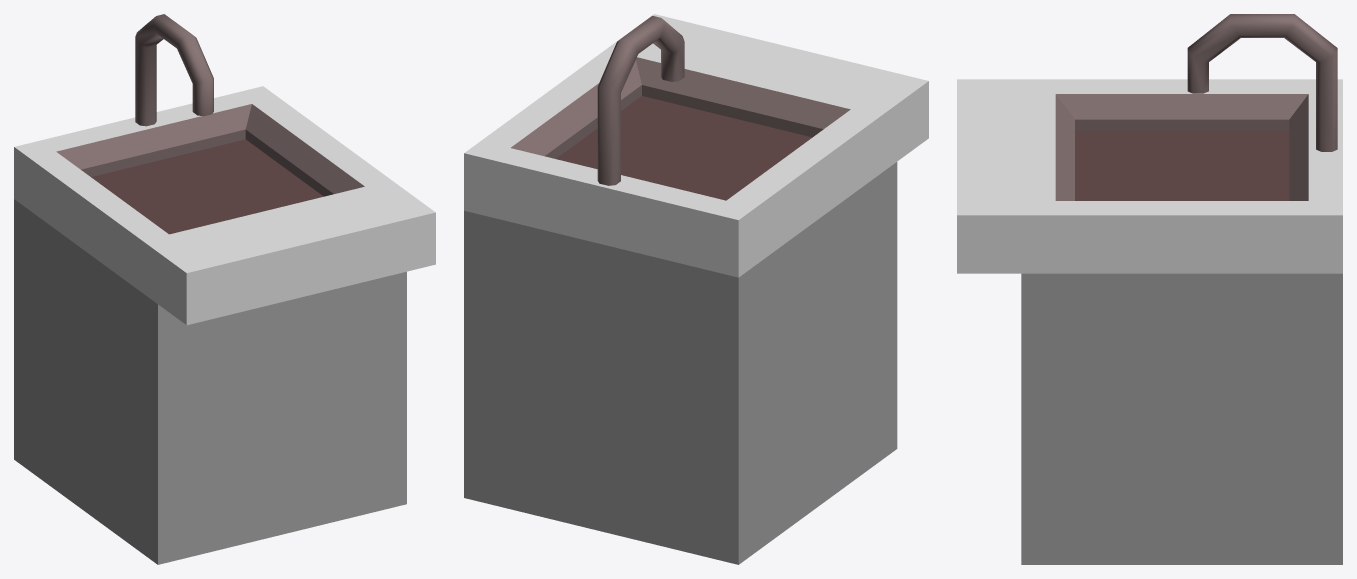
Rendered from Sink.fbx.
3 views of the same model, side by side, from view 1: azimuth 30°, elevation 25°; view 2: azimuth 150°, elevation 25°; view 3: azimuth 270°, elevation 25° (orthographic). The views are drawn at different scales.
Visible parts, largest first — view 1: Sink; view 2: Sink; view 3: Sink.
Boxes of the visible parts, box(x1,y1,x2,y2) form: Sink: box(14, 14, 435, 564); Sink: box(464, 14, 928, 564); Sink: box(957, 14, 1342, 564).
Size of the model in its own units: 1.5 by 2.47 by 1.8.
